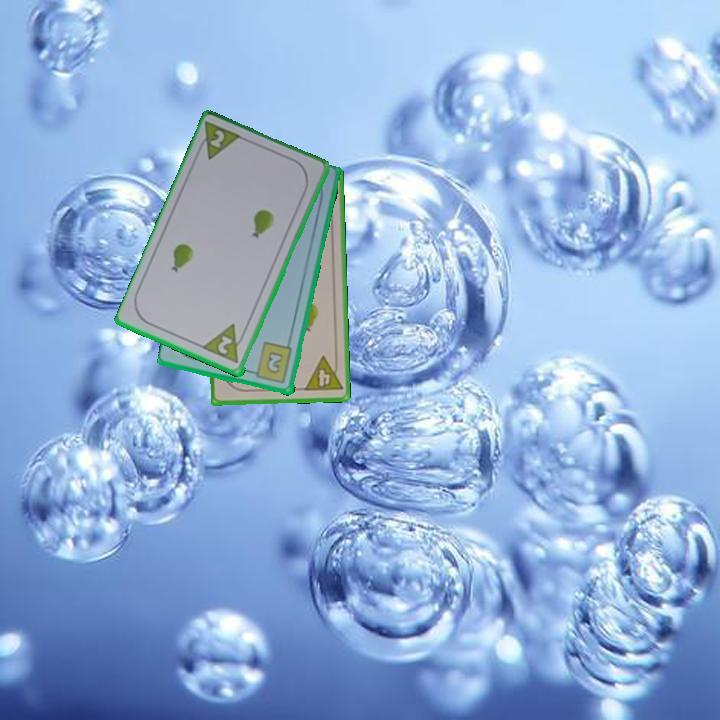2b: (247, 339, 295, 386)
2p: (214, 333, 235, 358), (207, 126, 228, 151)
4p: (301, 353, 345, 394)
